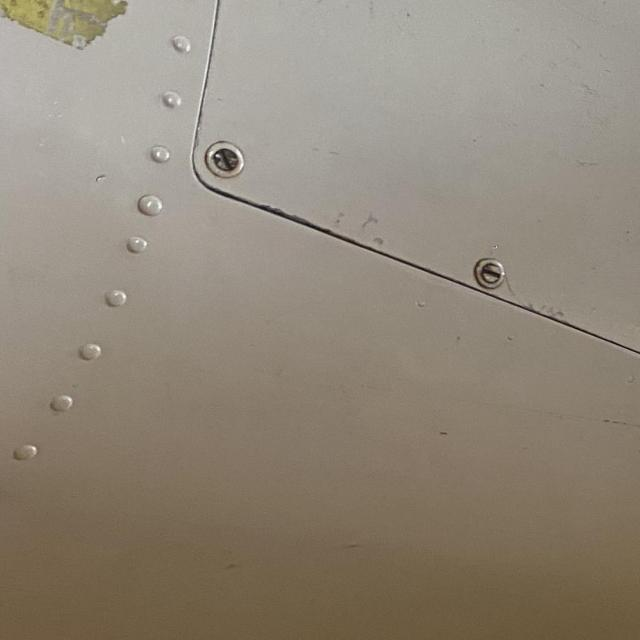Paint-off: (356, 213, 379, 240), (359, 230, 383, 251), (329, 209, 349, 232)
